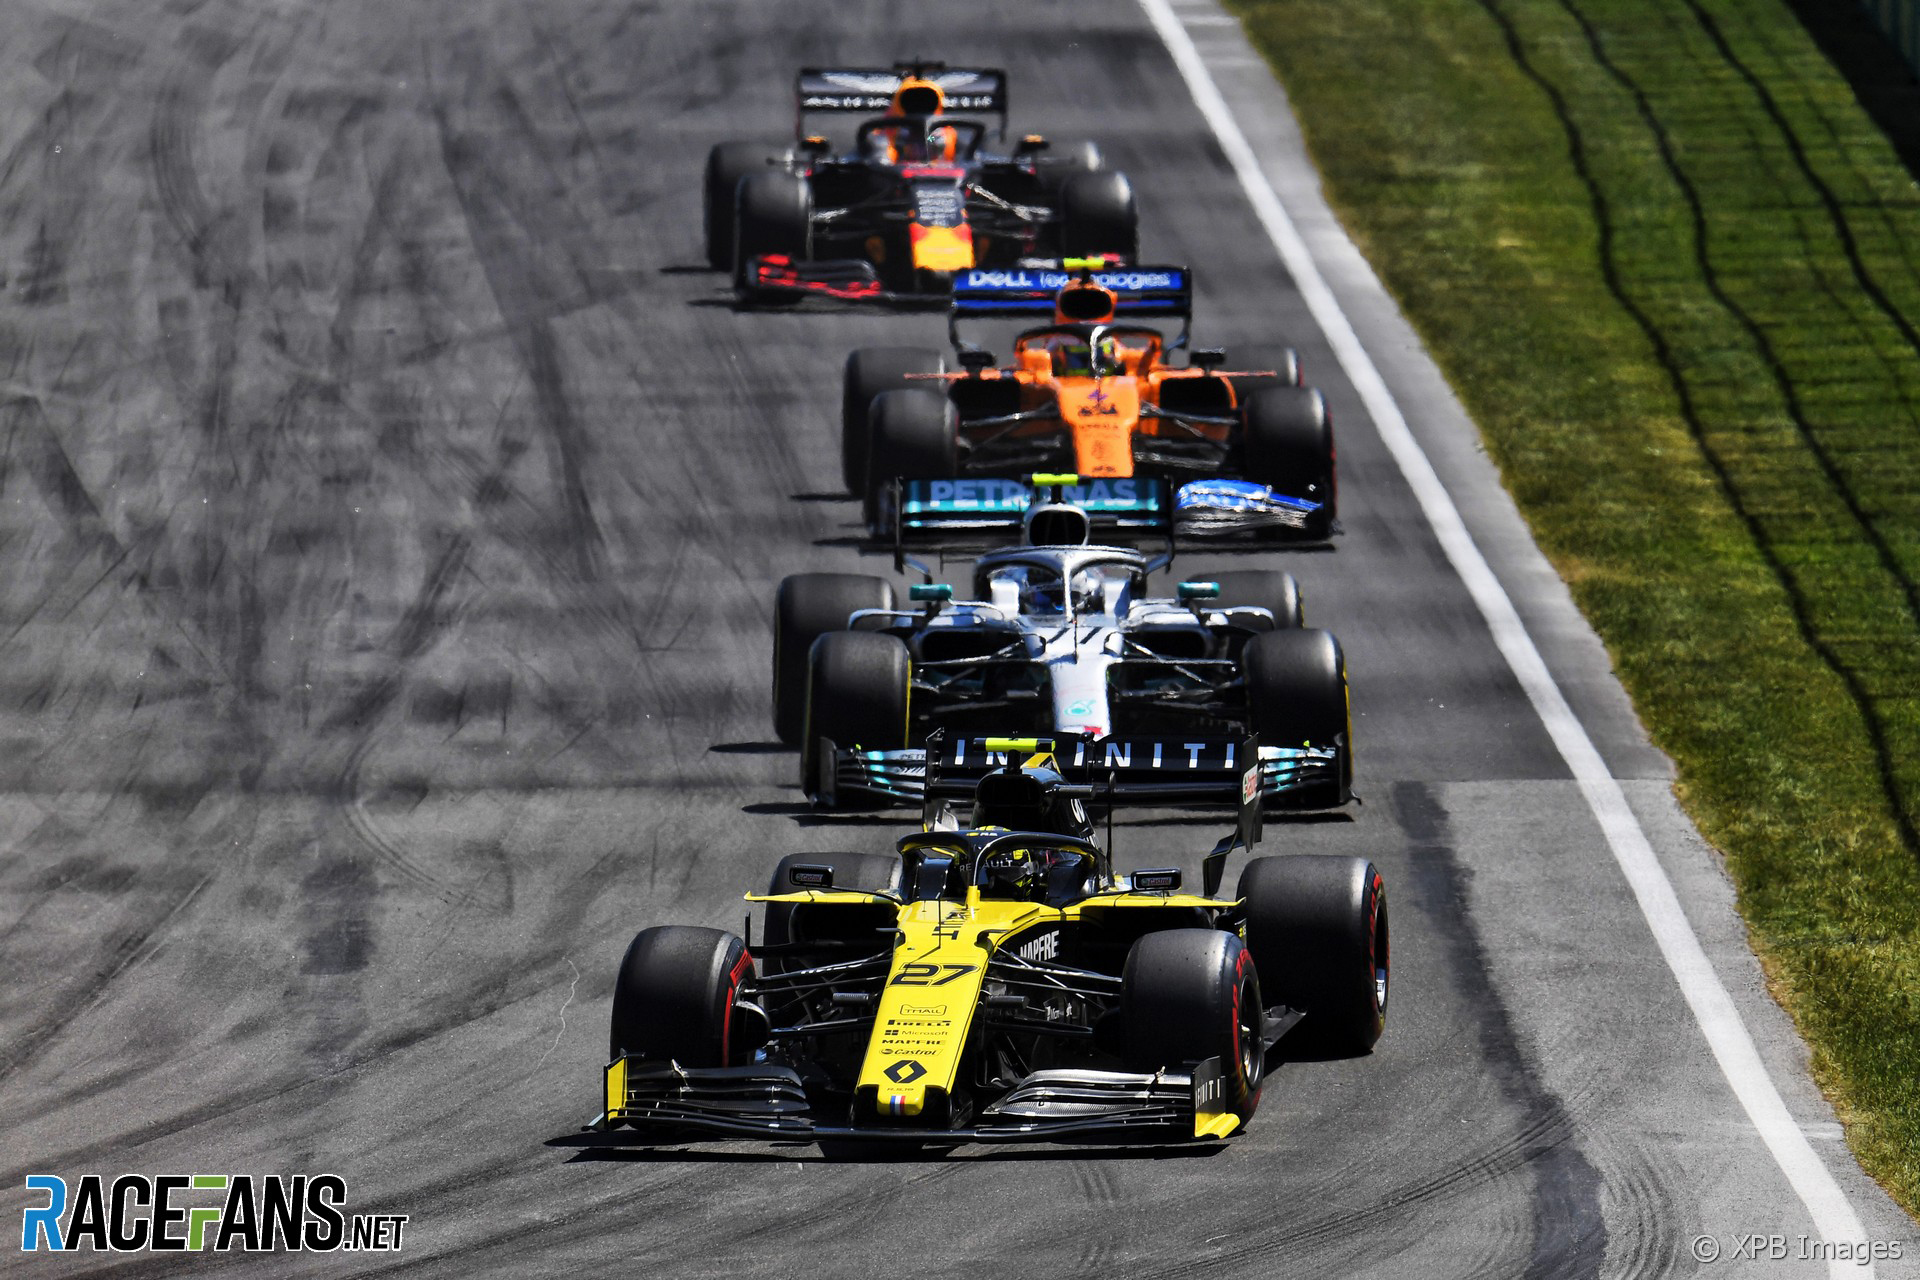F1 Car: (591, 731, 1410, 1154), (761, 467, 1374, 827), (829, 264, 1353, 546)
